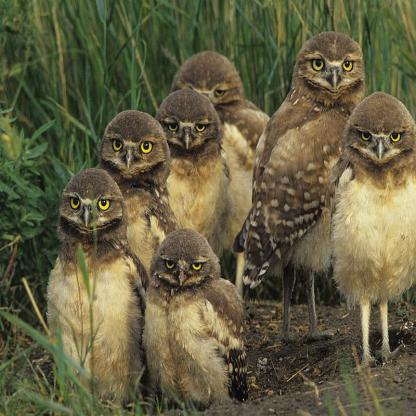owl: (265, 0, 378, 415), (123, 223, 340, 415), (44, 120, 168, 415), (348, 72, 416, 415), (164, 35, 232, 237), (119, 96, 193, 257)
